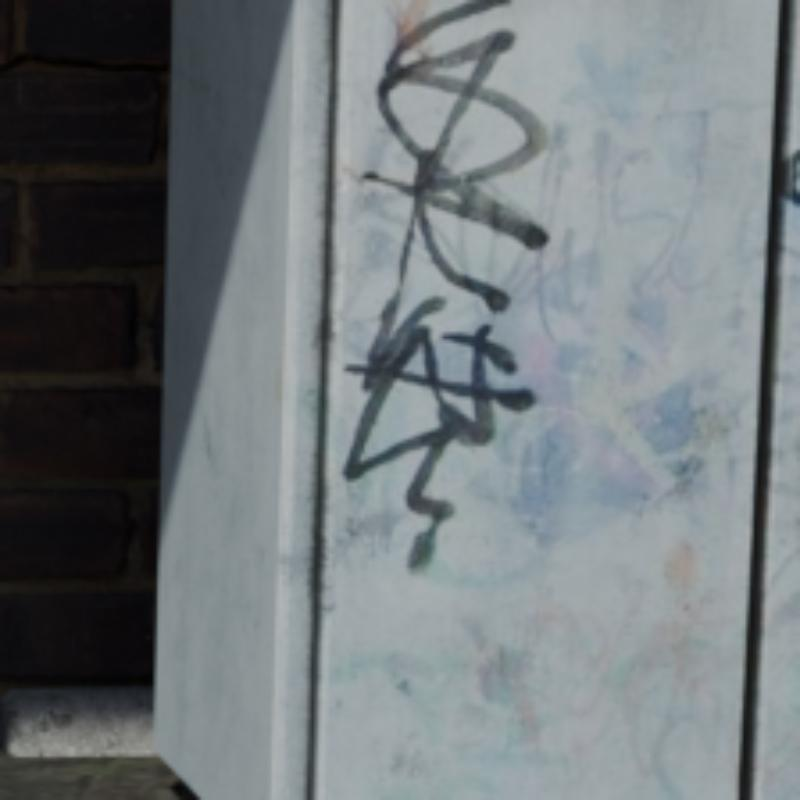crack: (0, 54, 168, 71)
